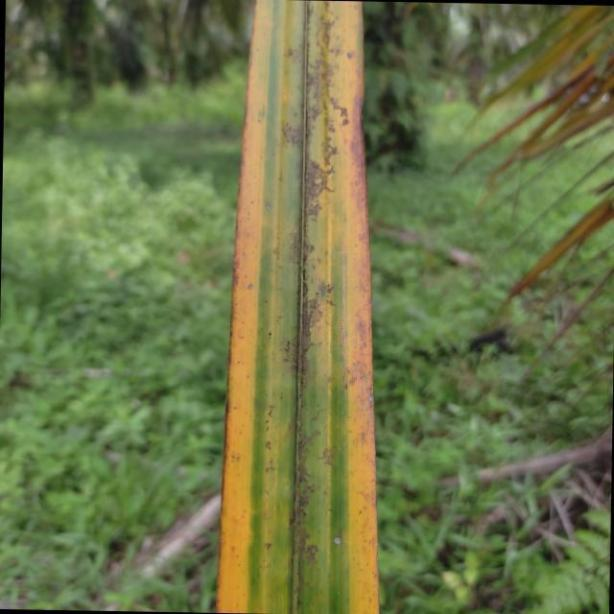Megnesium: (217, 0, 376, 614)
